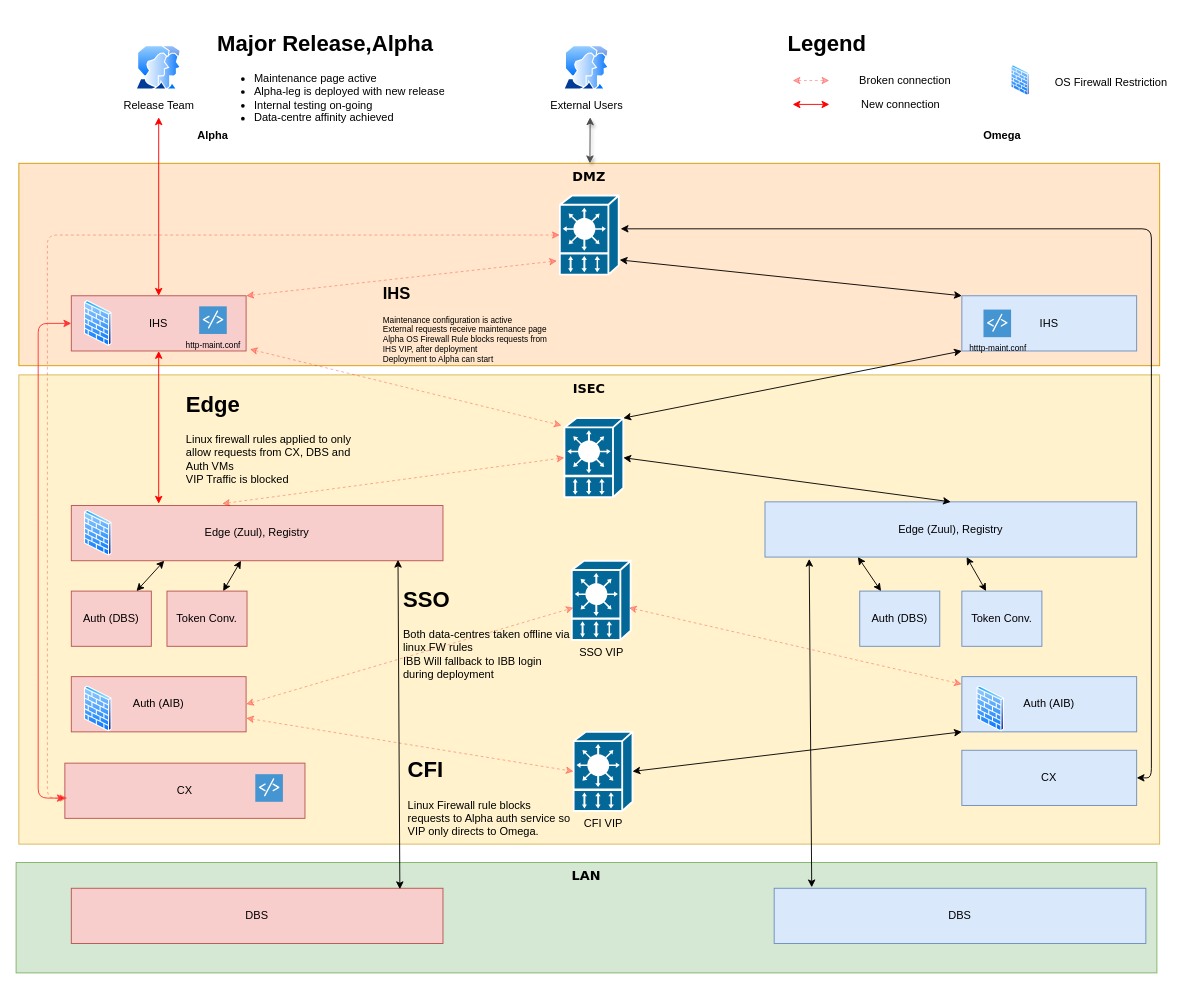
Image size: 1195x989. Some labels were removed from this diagram. Each missing label, with the centre of its shape:
"Gateway F5 VIP" goes at (593,457).
"IHS F5 VIP" goes at (588,234).
"portal.yml" goes at (268,787).
